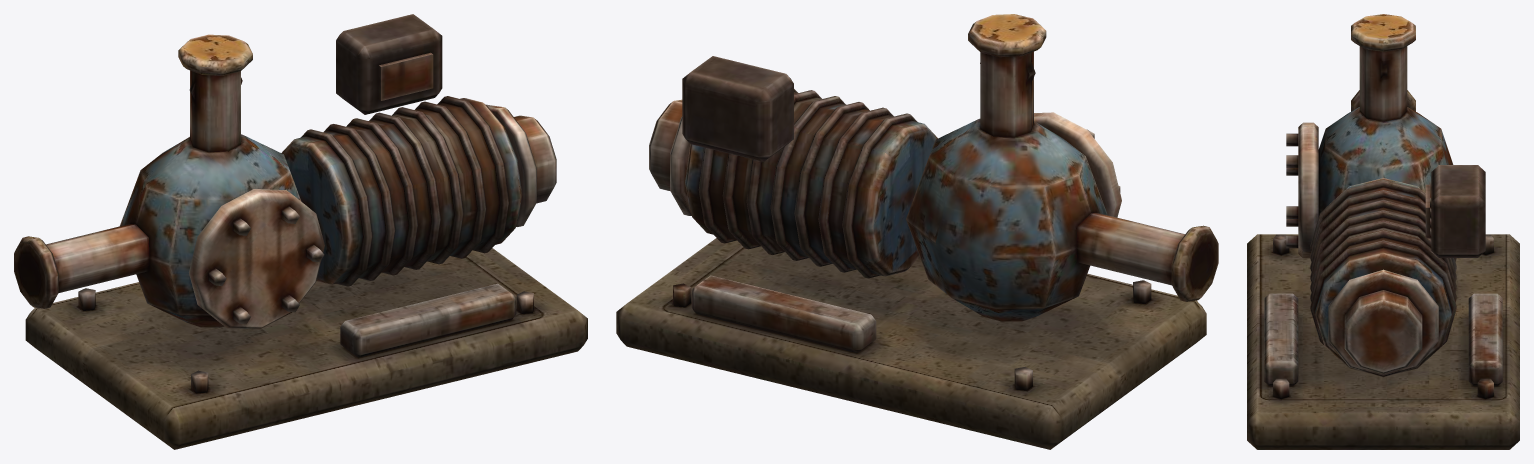
The model's file is bomba_quebrada.glb.
The picture shows the model from 3 angles, left to right: view 1: azimuth 30°, elevation 25°; view 2: azimuth 150°, elevation 25°; view 3: azimuth 270°, elevation 25°; orthographic projection. The views are drawn at different scales.
Visible parts, largest first — view 1: bomba_quebrada; view 2: bomba_quebrada; view 3: bomba_quebrada.
Part boxes in pixels (x1,y1,x2,y2): bomba_quebrada: (14,14,587,449); bomba_quebrada: (616,14,1218,449); bomba_quebrada: (1247,14,1519,449).
Bounding box in the file's own units: 1.56 × 0.95 × 0.8.
Materials: 1 (1 with a texture image).
